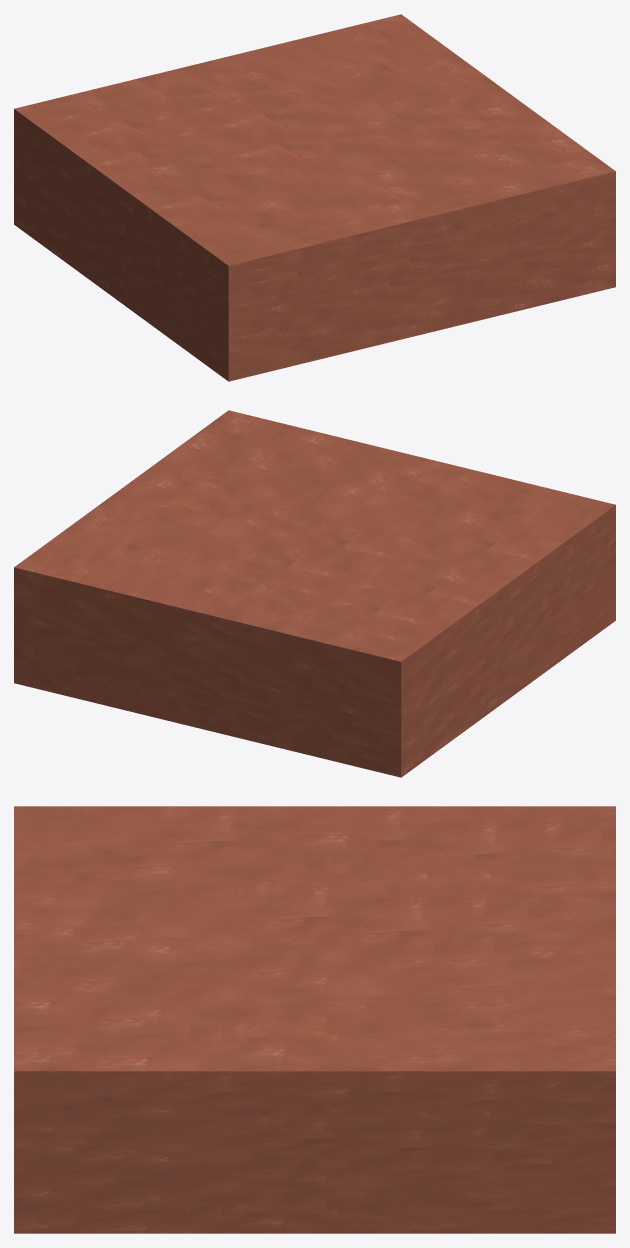
The picture shows the model from 3 angles, top to bottom: view 1: azimuth 30°, elevation 25°; view 2: azimuth 150°, elevation 25°; view 3: azimuth 270°, elevation 25°; orthographic projection. The views are drawn at different scales.
Parts seen in each view (by area): view 1: pPlane9, pPlane8, pPlane2; view 2: pPlane9, pPlane6, pPlane2; view 3: pPlane9, pPlane7.
Part boxes in pixels (x1,y1,x2,y2): pPlane9: [14, 14, 615, 265]; pPlane8: [228, 171, 615, 381]; pPlane2: [14, 109, 228, 381]; pPlane9: [14, 410, 615, 661]; pPlane6: [14, 567, 401, 777]; pPlane2: [401, 505, 615, 777]; pPlane9: [14, 806, 615, 1071]; pPlane7: [14, 1071, 615, 1233].
Size of the model in its own units: 1255 by 358 by 1204.
Materials: 1 (1 with a texture image).
